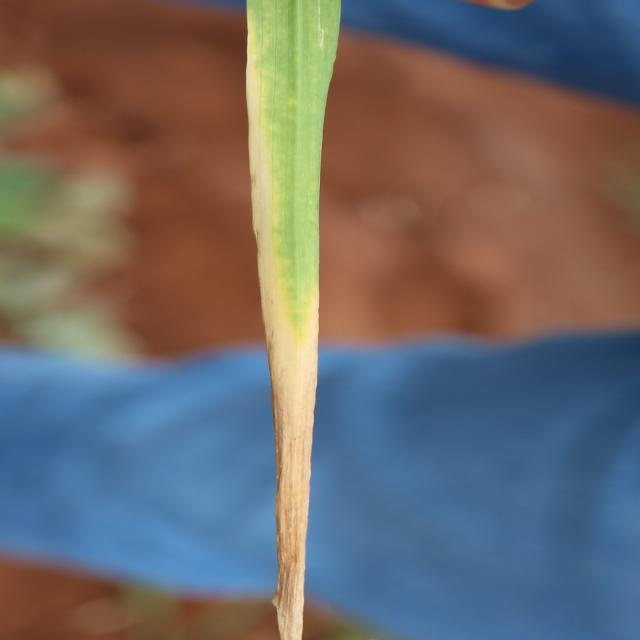Septoria: (244, 1, 342, 638)
